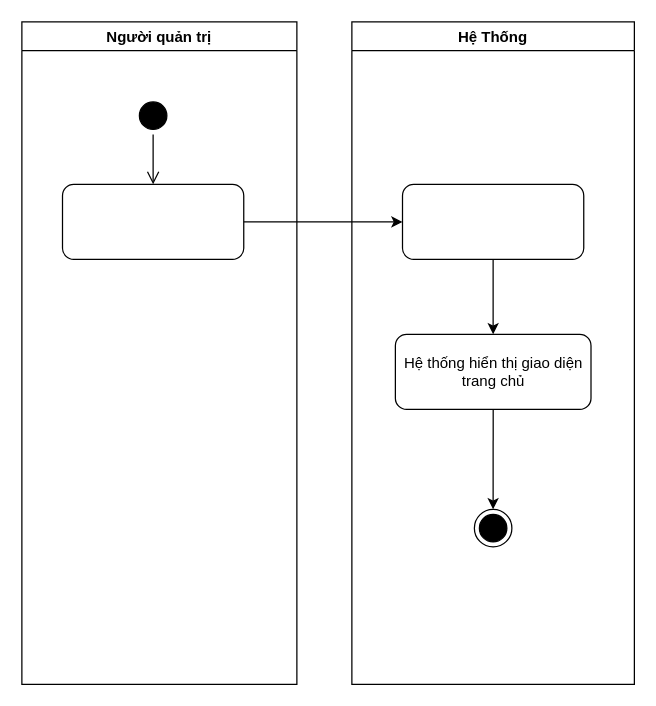
The diagram is 656 pixels wide and 706 high, and some of its shapes have lost their labels. The centre of each missing label's shape, as x and y in pixels:
Hệ thống huỷ phiên đăng nhập của tài khoản: (492,221)
Người quản trị chọn chức năng quản lý đợt làm đồ án: (152,221)
